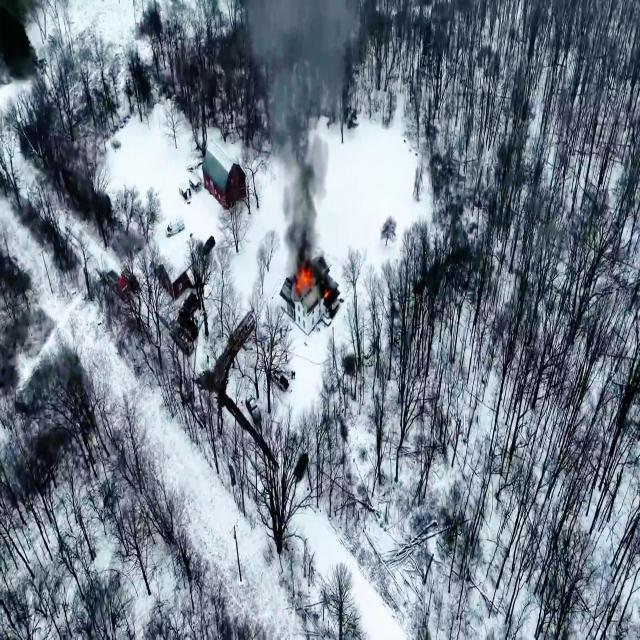Fire: (298, 261, 314, 287)
Smoke: (271, 14, 326, 242)
